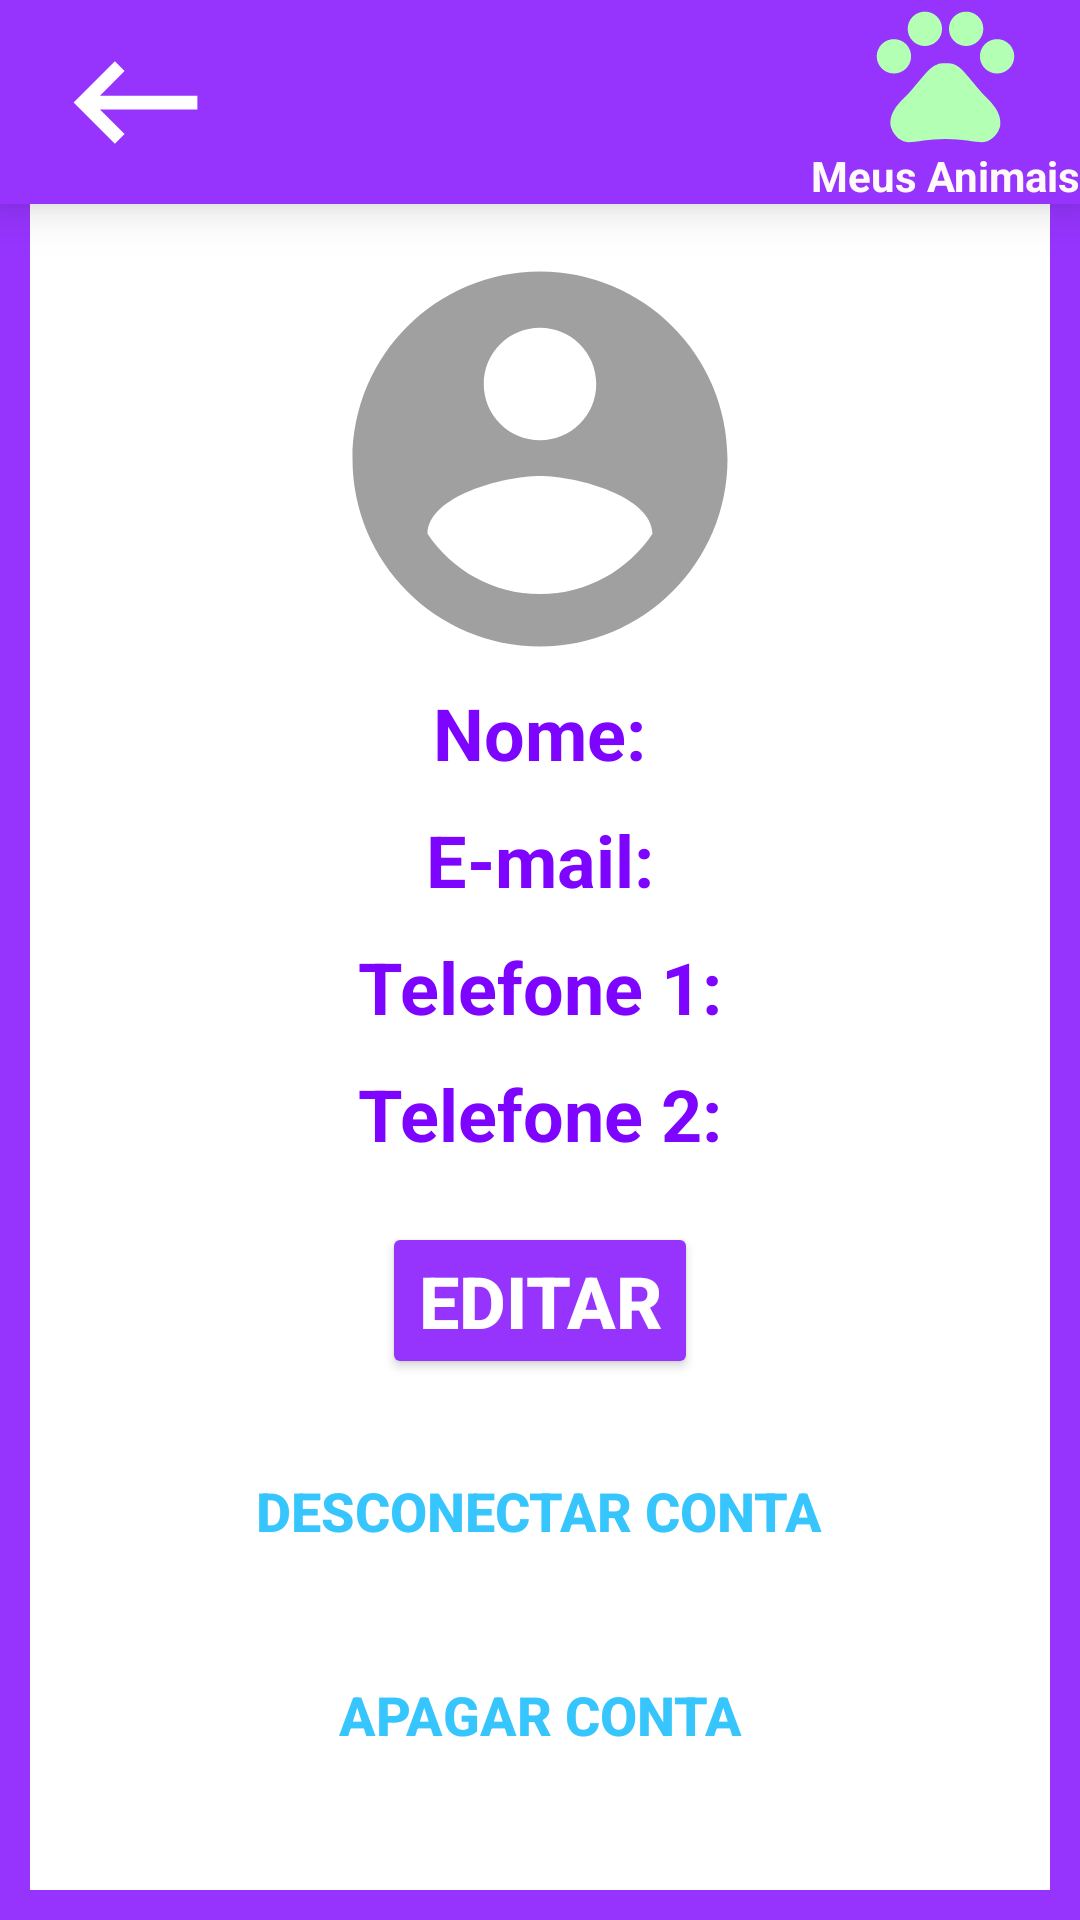

Named icons in this screenshot (1080px x 1920px) and their centers, [x,y]:
pets: [945,77]
voltar: [135,102]
